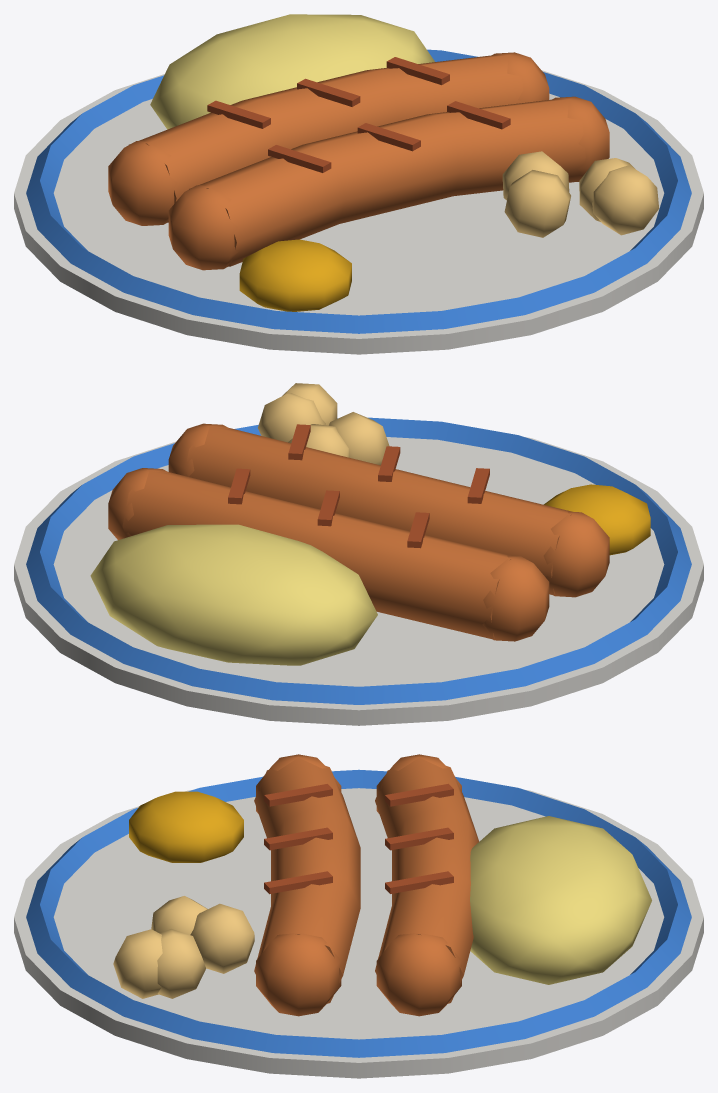
File: prato_salsichas.glb
3 views of the same model, one above another, from view 1: azimuth 30°, elevation 25°; view 2: azimuth 150°, elevation 25°; view 3: azimuth 270°, elevation 25° (orthographic).
Parts seen in each view (by area): view 1: Prato_Salsichas; view 2: Prato_Salsichas; view 3: Prato_Salsichas.
Part boxes in pixels (bbox=[...]): Prato_Salsichas: bbox=[14, 14, 703, 354]; Prato_Salsichas: bbox=[14, 383, 703, 725]; Prato_Salsichas: bbox=[14, 754, 703, 1078].
Bounding box in the file's own units: 0.4 × 0.085 × 0.4.
